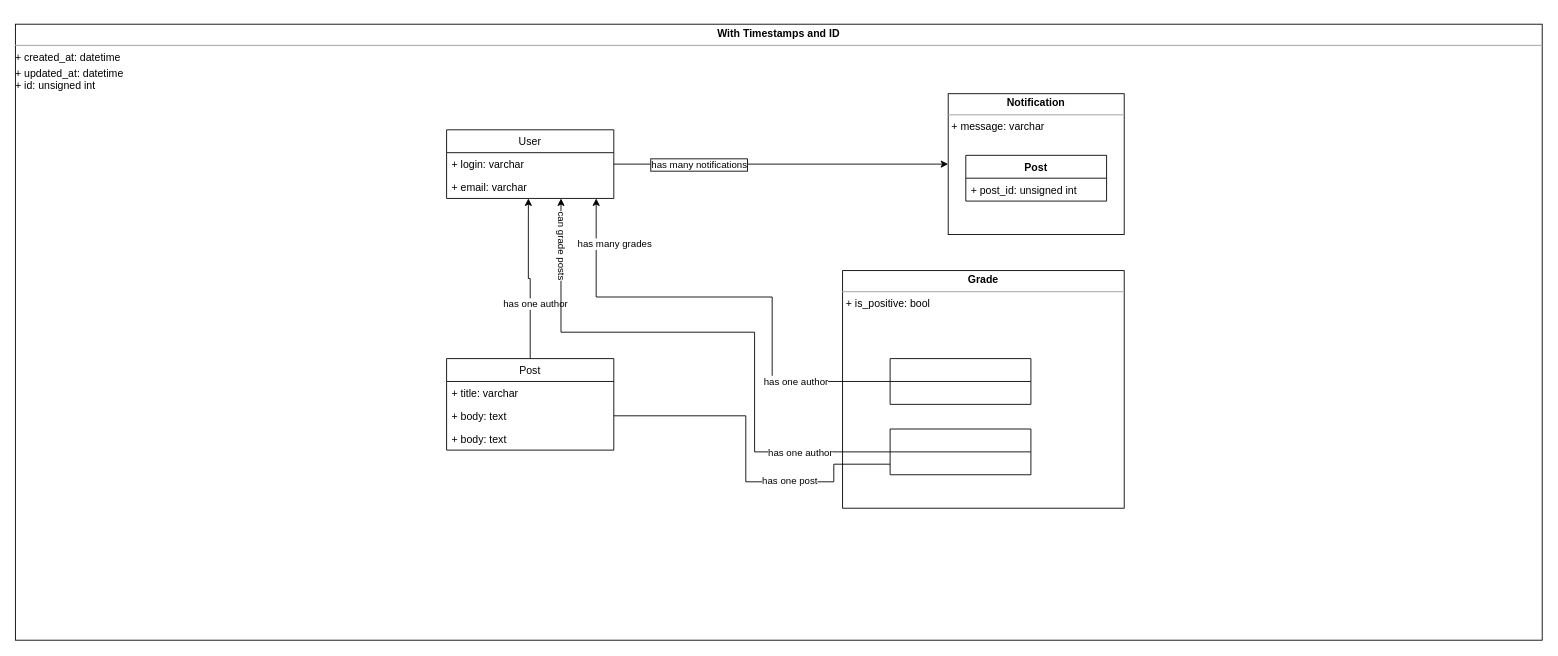
Some shapes in this 1558 by 656 pixel diagram are drawn without their labels. Each missing label, with the centre of its shape:
Post Grade: [960,451]
User Grade: [960,381]
